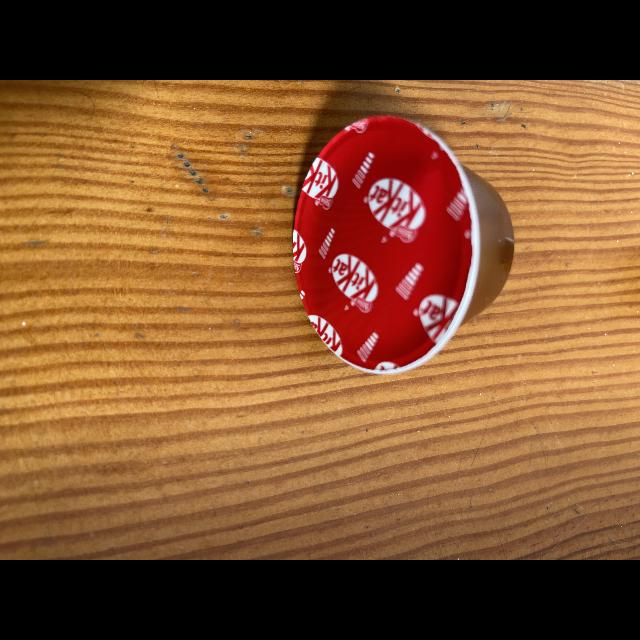intact_capsule: (289, 115, 531, 378)
